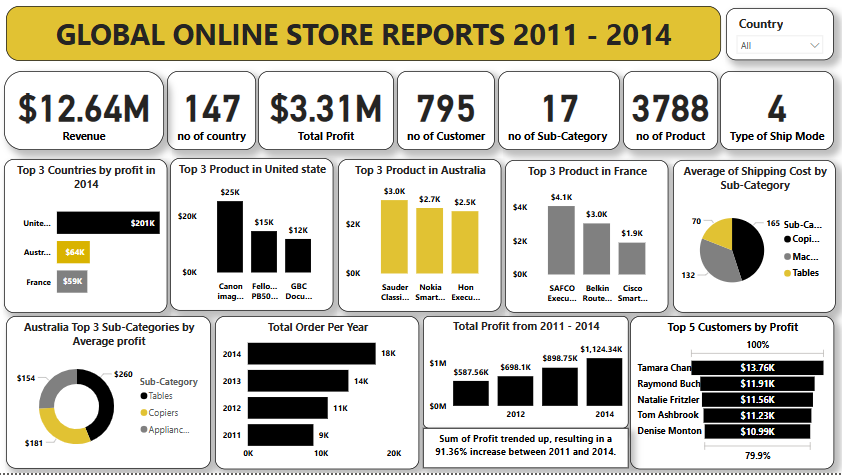

This screenshot's page, from the dashboard's own definition file:
{"tool":"powerbi","page":{"name":"Page 1","canvas":[1280,720],"ordinal":0},"visuals":[{"type":"textbox","box":[18.3,22.3,1068.2,82.5],"z":0},{"type":"card","fields":{"Values":["Order.Country"]},"box":[258.4,119.5,132.9,118],"z":1000},{"type":"card","fields":{"Values":["Order.Profit"]},"box":[394.3,119.5,203.1,118],"z":2000},{"type":"card","fields":{"Values":["Order.Sales"]},"box":[14.9,119.5,239,118],"z":3000},{"type":"card","fields":{"Values":["Order.Customer Name"]},"box":[601.9,119.5,146.4,118],"z":4000},{"type":"card","fields":{"Values":["Order.Sub-Category"]},"box":[752.8,119.5,182.2,118],"z":5000},{"type":"card","fields":{"Values":["Order.Product Name"]},"box":[939.5,119.5,141.9,118],"z":6000},{"type":"card","fields":{"Values":["Order.Ship Mode"]},"box":[1084.3,119.5,170.3,118],"z":7000},{"type":"clusteredBarChart","title":"Top 3 Countries by profit in 2014","fields":{"Category":["Order.Country","Order.Ship Date.Variation.Date Hierarchy.Year"],"Y":["Order.Profit","select"]},"box":[15.1,250.3,243.6,230.1],"z":8000},{"type":"clusteredColumnChart","title":"Top 3 Product in United state","fields":{"Category":["Order.Product Name"],"Y":["Order.Profit"]},"box":[263.5,249.1,244,228],"z":9000},{"type":"clusteredColumnChart","title":"Top 3 Product in Australia","fields":{"Category":["Order.Product Name"],"Y":["Order.Profit"]},"box":[514.1,250.6,244,228],"z":10000},{"type":"clusteredColumnChart","title":"Top 3 Product in France","fields":{"Category":["Order.Product Name"],"Y":["Order.Profit"]},"box":[763.2,252,244,228],"z":11000},{"type":"pieChart","fields":{"Category":["Order.Sub-Category"],"Y":["Order.Shipping Cost"]},"box":[1013.8,252,243.4,227.5],"z":12000},{"type":"donutChart","title":"Australia Top 3 Sub-Categories by Average profit","fields":{"Category":["Order.Sub-Category"],"Y":["Order.Profit"]},"box":[18.5,485.5,305.7,228.5],"z":13000},{"type":"clusteredBarChart","title":"Total Order Per Year","fields":{"Category":["Order.Order Date.Variation.Date Hierarchy.Year"],"Y":["Order.Order ID"]},"box":[329.8,485.3,305.3,229],"z":14000},{"type":"clusteredColumnChart","title":"Total Profit from 2011 - 2014","fields":{"Category":["Order.Order Date.Variation.Date Hierarchy.Year"],"Y":["Order.Profit"]},"box":[640,485.2,306.6,168.2],"z":15000},{"type":"slicer","title":"Top 5 Customer by Profit","fields":{"Values":["Order.Country"]},"box":[1093.3,25.4,161.3,77.7],"z":16000},{"type":"funnel","title":"Top 5 Customers by Profit","fields":{"Y":["Order.Profit"],"Category":["Order.Customer Name"]},"box":[950.4,485.3,305,229],"z":17000},{"type":"textbox","box":[640,653.4,306.6,59.5],"z":18000}]}

Visuals, with their boxes in screenshot pixels (x1, y1, x2, y2), scaled from the page's 1280x720 canvas onto the 842x475 screenshot:
textbox: crop(12, 15, 715, 69)
card - Order.Country: crop(170, 79, 257, 157)
card - Order.Profit: crop(259, 79, 393, 157)
card - Order.Sales: crop(10, 79, 167, 157)
card - Order.Customer Name: crop(396, 79, 492, 157)
card - Order.Sub-Category: crop(495, 79, 615, 157)
card - Order.Product Name: crop(618, 79, 711, 157)
card - Order.Ship Mode: crop(713, 79, 825, 157)
"Top 3 Countries by profit in 2014" clusteredBarChart: crop(10, 165, 170, 317)
"Top 3 Product in United state" clusteredColumnChart: crop(173, 164, 334, 315)
"Top 3 Product in Australia" clusteredColumnChart: crop(338, 165, 499, 316)
"Top 3 Product in France" clusteredColumnChart: crop(502, 166, 663, 317)
pieChart - Order.Sub-Category x Order.Shipping Cost: crop(667, 166, 827, 316)
"Australia Top 3 Sub-Categories by Average profit" donutChart: crop(12, 320, 213, 471)
"Total Order Per Year" clusteredBarChart: crop(217, 320, 418, 471)
"Total Profit from 2011 - 2014" clusteredColumnChart: crop(421, 320, 623, 431)
"Top 5 Customer by Profit" slicer: crop(719, 17, 825, 68)
"Top 5 Customers by Profit" funnel: crop(625, 320, 826, 471)
textbox: crop(421, 431, 623, 470)
